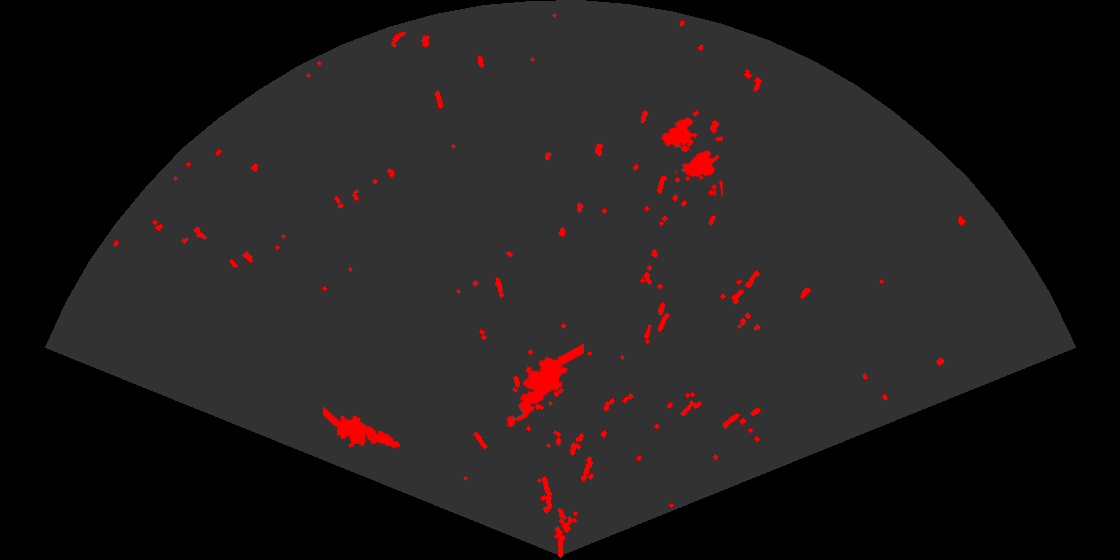cage: (660, 115, 723, 196)
frogman: (504, 342, 584, 429), (323, 405, 402, 450)
